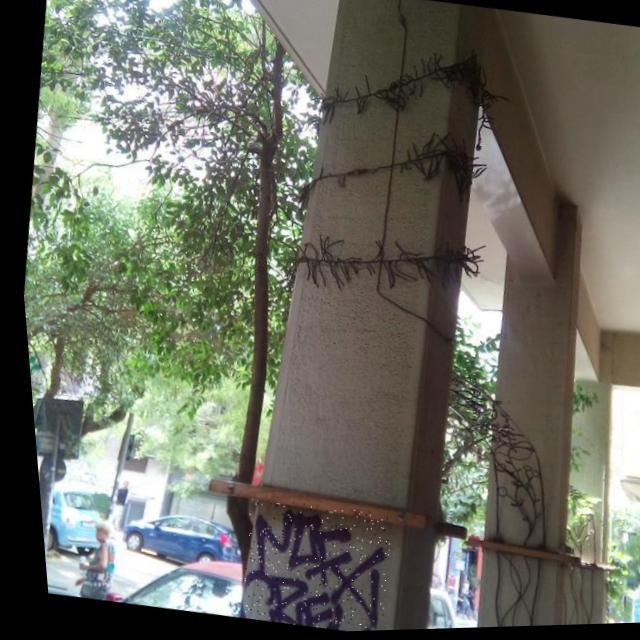-: (223, 494, 390, 636)
